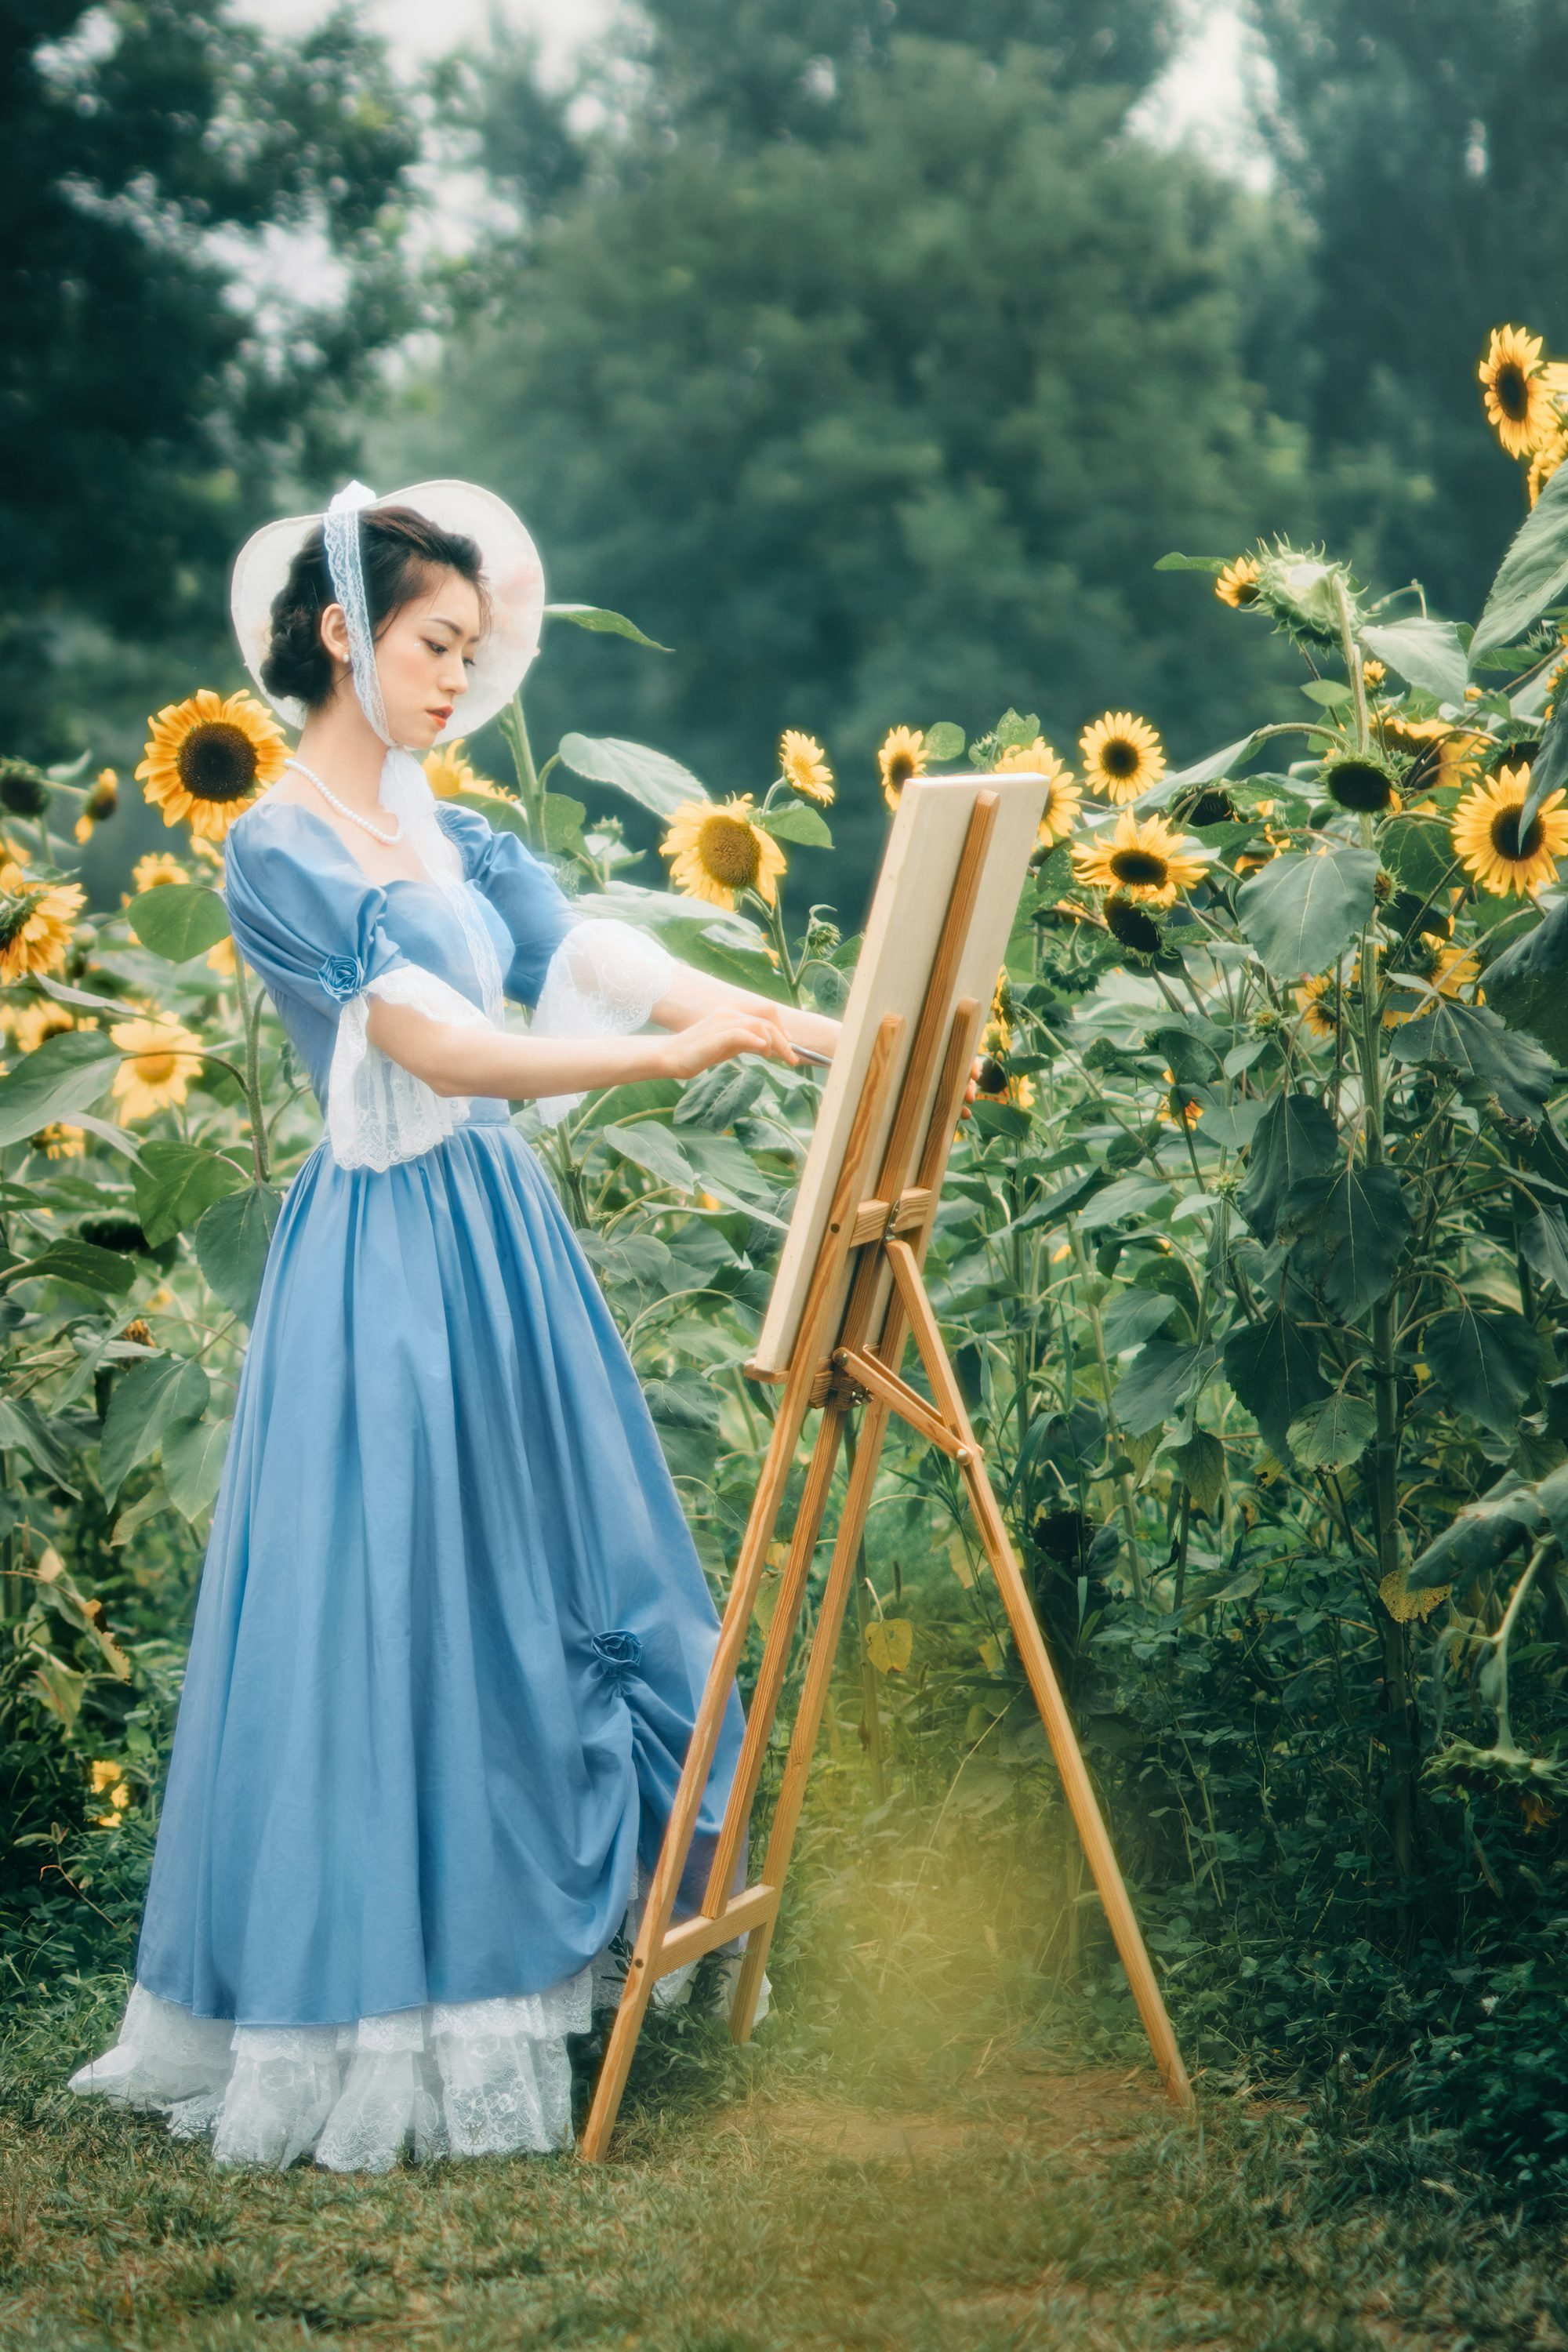person: (143, 423, 863, 2187)
